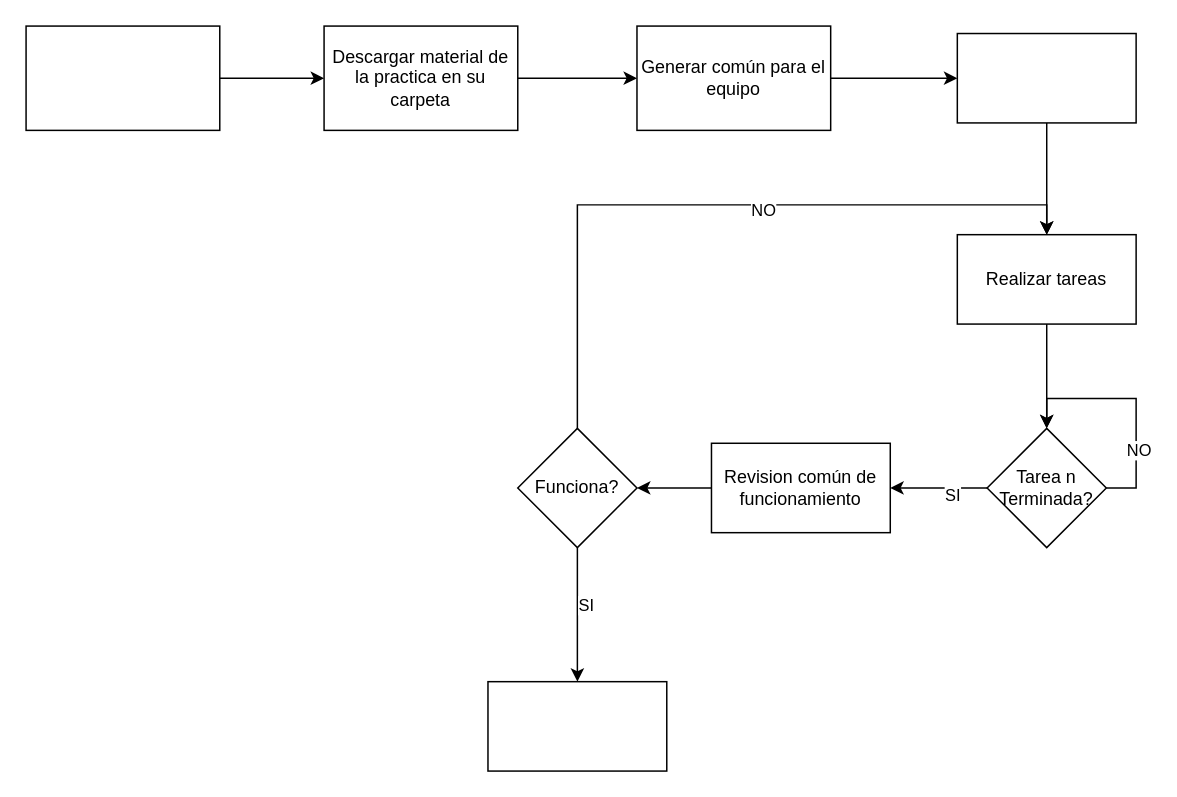
Some shapes in this 1177 by 797 pixel diagram are drawn without their labels. The shapes that lost their labels are listed below. From the top down, each one's centre as x and y in pixels, then its label:
the point at 122,77: Crear en main carpeta Práctica N
the point at 1046,77: Dividir tareas y crear 2 branch separadas
the point at 576,725: Merge a Main
